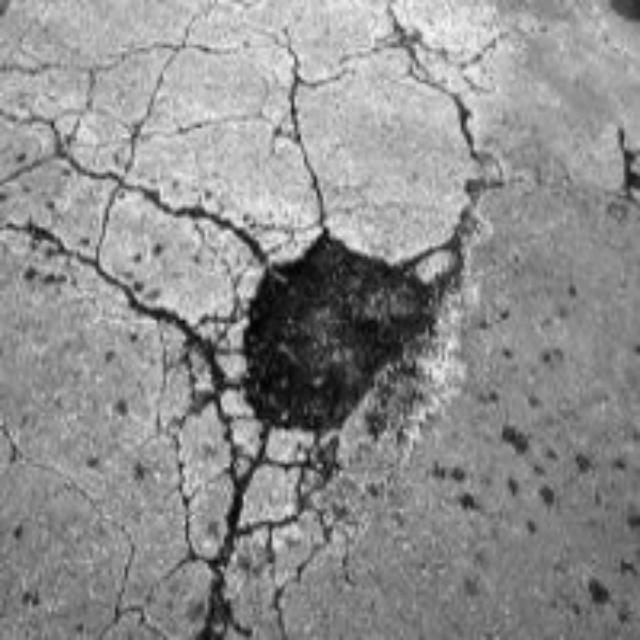Crack: (0, 44, 236, 318), (111, 327, 285, 640), (369, 14, 538, 271), (258, 37, 337, 222)
Pothole: (246, 239, 392, 409)
